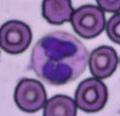N: (31, 30, 88, 83)
